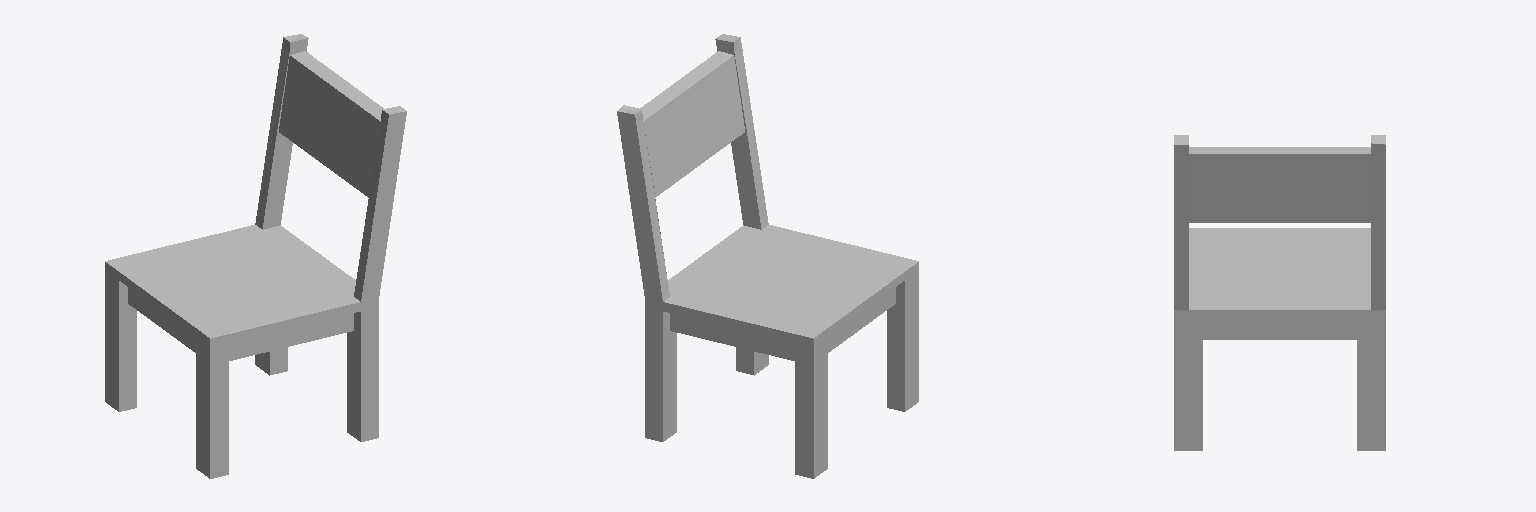
Rendered from chair_small.obj.
3 renders of one model, left to right at view 1: azimuth 30°, elevation 25°; view 2: azimuth 150°, elevation 25°; view 3: azimuth 270°, elevation 25°, orthographic.
Parts seen in each view (by area): view 1: Cube.001; view 2: Cube.001; view 3: Cube.001.
Boxes of the visible parts, <box> form: Cube.001: <box>105,34,406,478</box>; Cube.001: <box>617,34,918,478</box>; Cube.001: <box>1174,135,1385,450</box>.
Size of the model in its own units: 2.15 by 3.35 by 2.